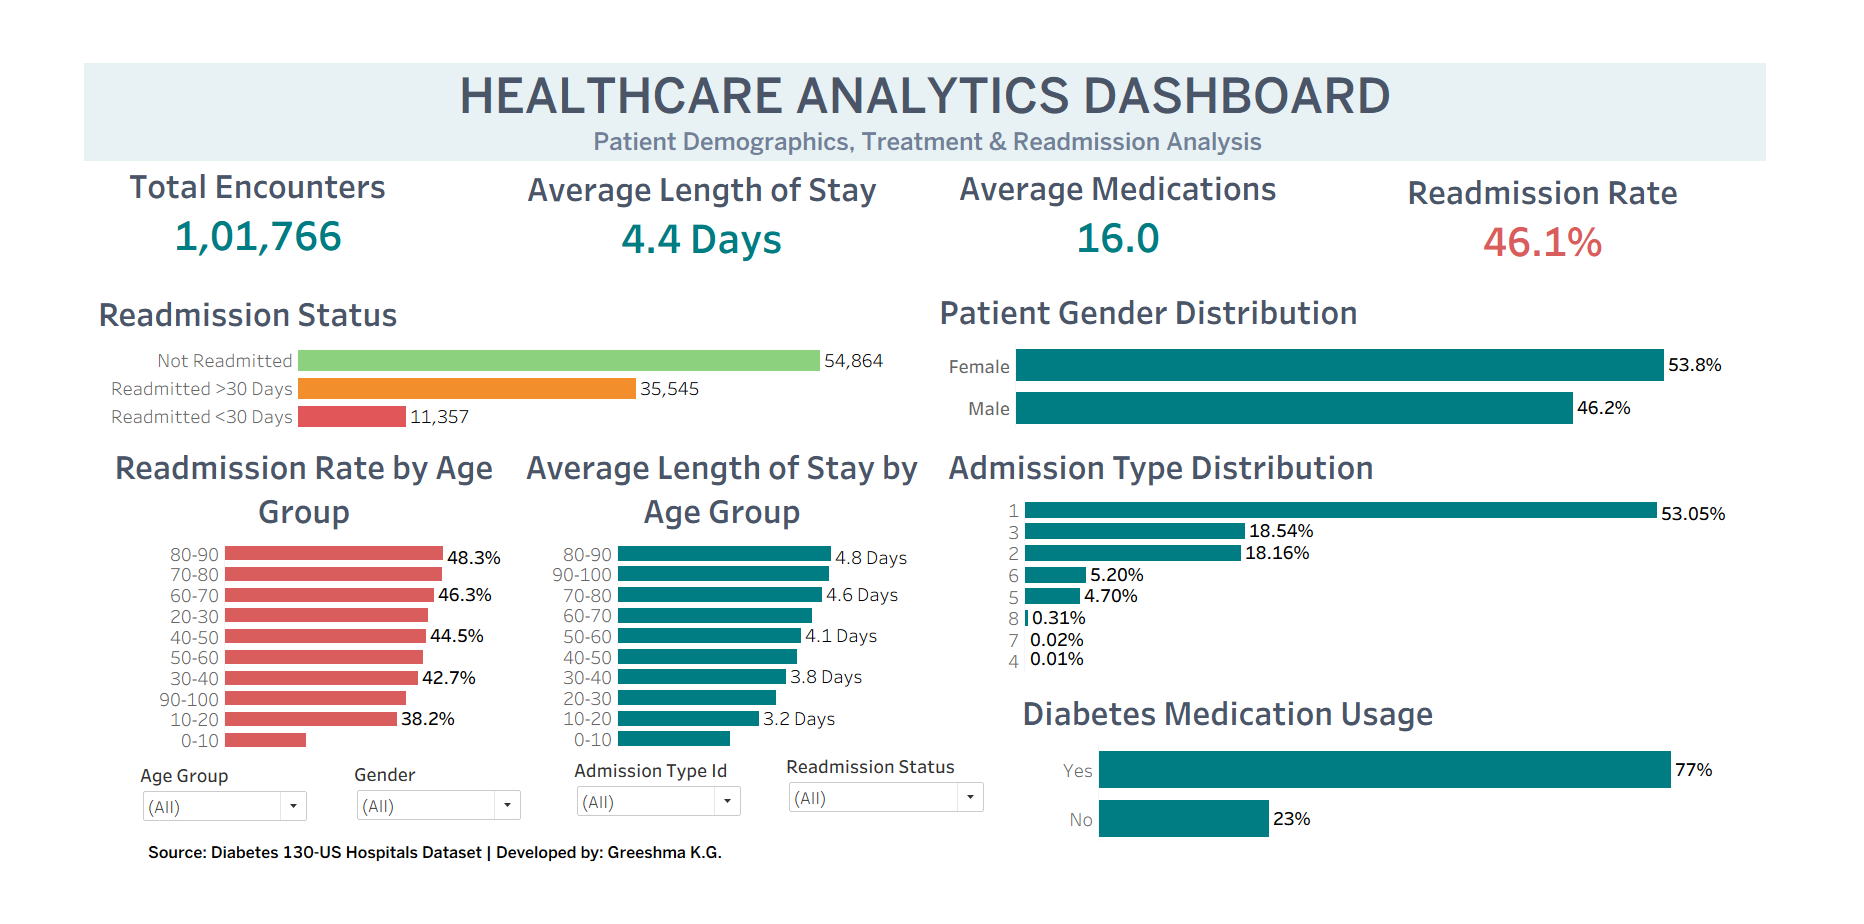

Layout of this report page (visuals, bound fields, positions):
{"tool":"tableau","page":{"name":"Dashboard 1","canvas":[1000,1000],"units":"permille","ordinal":0},"visuals":[{"type":"text","box":[3.7,14.8,986.9,123.3]},{"type":"worksheet","title":"KPI - Total Encounters","mark":"Automatic","box":[5,140.8,237.5,139.4]},{"type":"worksheet","title":"KPI - Readmission Rate","mark":"Automatic","box":[751.9,142.1,236.3,144.8]},{"type":"worksheet","title":"KPI - Average Medications","mark":"Automatic","box":[504.4,143.4,229.4,143.4]},{"type":"worksheet","title":"KPI - Average Length of Stay","mark":"Automatic","box":[256.9,144.8,233.8,135.4]},{"type":"worksheet","title":"Patient Gender Distribution","mark":"Automatic","rows":["gender"],"cols":["encounter_id"],"box":[503.1,292.2,483.2,179.6]},{"type":"worksheet","title":"Readmission Status","mark":"Automatic","rows":["Calculation_293015483355316224"],"cols":["encounter_id"],"box":[9.3,294.9,481.3,178.3]},{"type":"worksheet","title":"Readmission Rate by Age Group","mark":"Automatic","rows":["Calculation_293015483356512257"],"cols":["Calculation_1061442170133585920"],"box":[8.1,486.6,248.8,387.4]},{"type":"worksheet","title":"Average Length of Stay by Age Group","mark":"Automatic","rows":["Calculation_293015483356512257"],"cols":["time_in_hospital"],"box":[260,486.6,235.7,386.1]},{"type":"worksheet","title":"Admission Type Distribution","mark":"Automatic","rows":["admission_type_id"],"cols":["encounter_id"],"box":[508.1,486.6,480.1,289.5]},{"type":"worksheet","title":"Diabetes Medication Usage","mark":"Automatic","rows":["diabetesMed"],"cols":["encounter_id"],"box":[551.8,793.6,427.1,195.7]},{"type":"filter","title":"Readmission Status","param":"[federated.1npx68o1gbxt7k1d237rg1xq4hns].[none:Calculation_293015483355316224:nk","box":[415.2,878,117.8,83.1]},{"type":"filter","title":"Admission Type Distribution","param":"[federated.1npx68o1gbxt7k1d237rg1xq4hns].[none:admission_type_id:ok]","box":[291.2,882,99.8,80.4]},{"type":"filter","title":"Patient Gender Distribution","param":"[federated.1npx68o1gbxt7k1d237rg1xq4hns].[none:gender:nk]","box":[162.1,887.4,99.8,80.4]},{"type":"filter","title":"Readmission Rate by Age Group","param":"[federated.1npx68o1gbxt7k1d237rg1xq4hns].[none:Calculation_293015483356512257:nk","box":[36.2,888.7,99.8,85.8]}]}

Visuals, with their boxes on the dashboard's canvas, which has no fixed pixel size, in thousandths of its width and height (x1, y1, x2, y2). These are canvas units, not pixel positions in the 1864x924 screenshot, which may show the page scaled, cropped or inside an application window:
text: pyautogui.locateOnScreen(4, 15, 991, 138)
"KPI - Total Encounters" worksheet: pyautogui.locateOnScreen(5, 141, 242, 280)
"KPI - Readmission Rate" worksheet: pyautogui.locateOnScreen(752, 142, 988, 287)
"KPI - Average Medications" worksheet: pyautogui.locateOnScreen(504, 143, 734, 287)
"KPI - Average Length of Stay" worksheet: pyautogui.locateOnScreen(257, 145, 491, 280)
"Patient Gender Distribution" worksheet: pyautogui.locateOnScreen(503, 292, 986, 472)
"Readmission Status" worksheet: pyautogui.locateOnScreen(9, 295, 491, 473)
"Readmission Rate by Age Group" worksheet: pyautogui.locateOnScreen(8, 487, 257, 874)
"Average Length of Stay by Age Group" worksheet: pyautogui.locateOnScreen(260, 487, 496, 873)
"Admission Type Distribution" worksheet: pyautogui.locateOnScreen(508, 487, 988, 776)
"Diabetes Medication Usage" worksheet: pyautogui.locateOnScreen(552, 794, 979, 989)
"Readmission Status" filter: pyautogui.locateOnScreen(415, 878, 533, 961)
"Admission Type Distribution" filter: pyautogui.locateOnScreen(291, 882, 391, 962)
"Patient Gender Distribution" filter: pyautogui.locateOnScreen(162, 887, 262, 968)
"Readmission Rate by Age Group" filter: pyautogui.locateOnScreen(36, 889, 136, 974)
